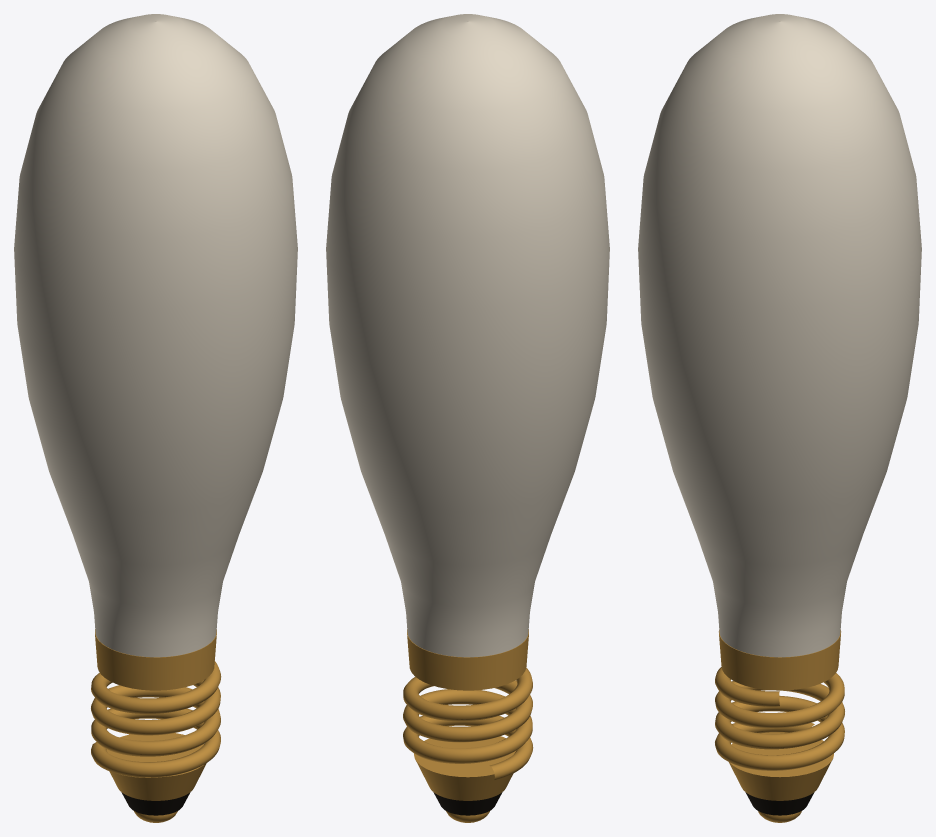
The model's file is deco-edison-histoire.glb.
The picture shows the model from 3 angles, left to right: view 1: azimuth 30°, elevation 25°; view 2: azimuth 150°, elevation 25°; view 3: azimuth 270°, elevation 25°; orthographic projection.
Parts seen in each view (by area): view 1: deco-edison-histoire; view 2: deco-edison-histoire; view 3: deco-edison-histoire.
Boxes of the visible parts, <box> form: deco-edison-histoire: <box>14,14,297,822</box>; deco-edison-histoire: <box>326,14,609,822</box>; deco-edison-histoire: <box>638,14,921,822</box>.
Size of the model in its own units: 0.064 by 0.1985 by 0.064.
